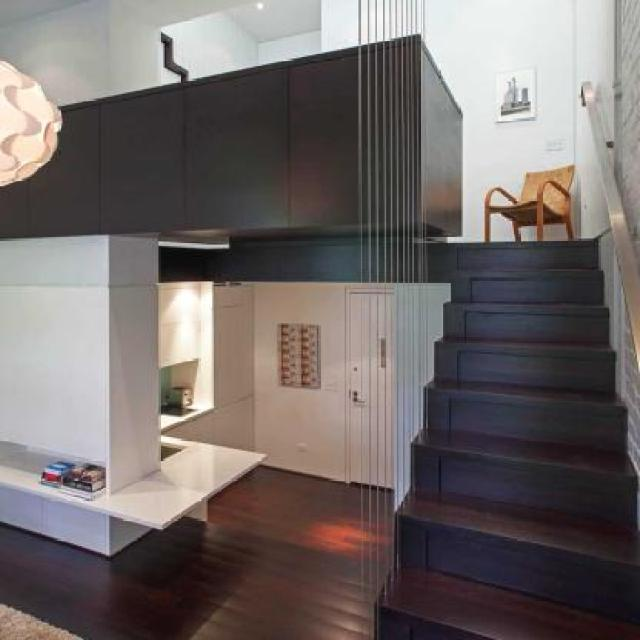stair: (358, 190, 640, 639)
